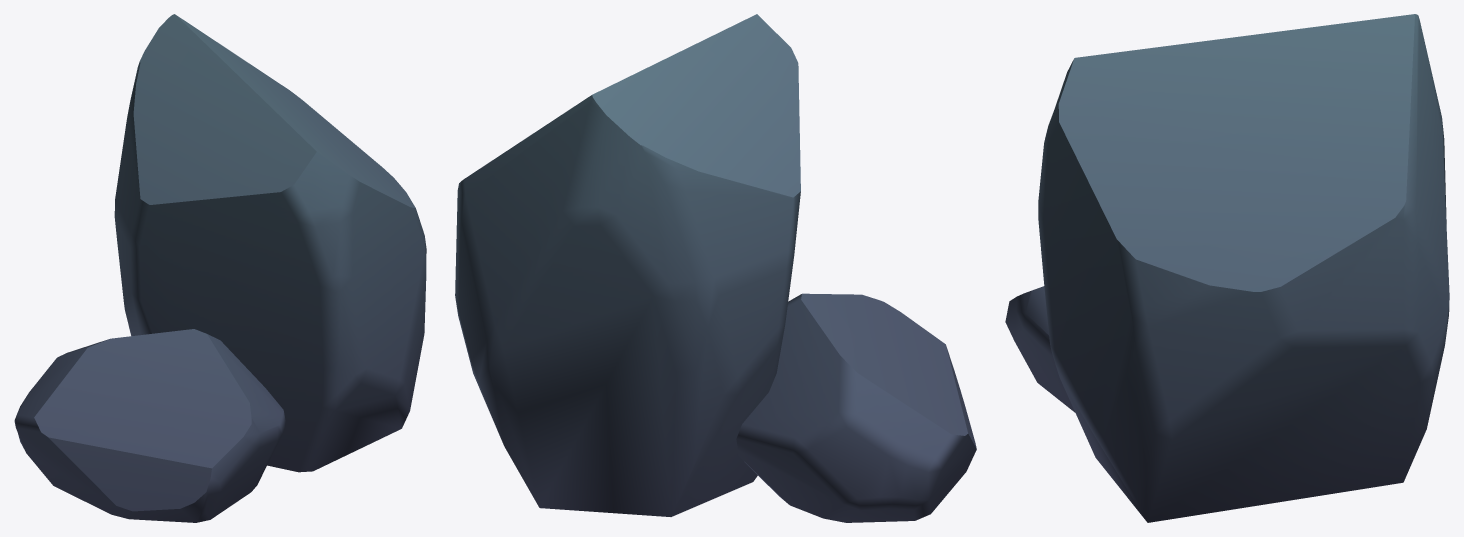
Rendered from Coal_Ore_03_lvl .fbx.
The picture shows the model from 3 angles, left to right: view 1: azimuth 30°, elevation 25°; view 2: azimuth 150°, elevation 25°; view 3: azimuth 270°, elevation 25°; orthographic projection. The views are drawn at different scales.
Visible parts, largest first — view 1: Icosphere.026; view 2: Icosphere.026; view 3: Icosphere.026.
Boxes of the visible parts, bbox=[...] form: Icosphere.026: bbox=[14, 14, 426, 522]; Icosphere.026: bbox=[455, 14, 976, 522]; Icosphere.026: bbox=[1005, 14, 1449, 522].
Bounding box in the file's own units: 158 × 144 × 132.
